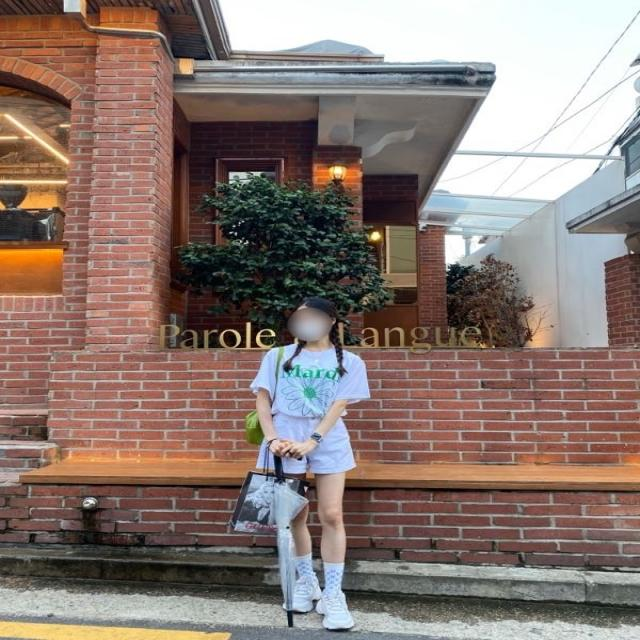shortpants: (265, 415, 359, 472)
shortsleeve: (249, 344, 370, 419)
